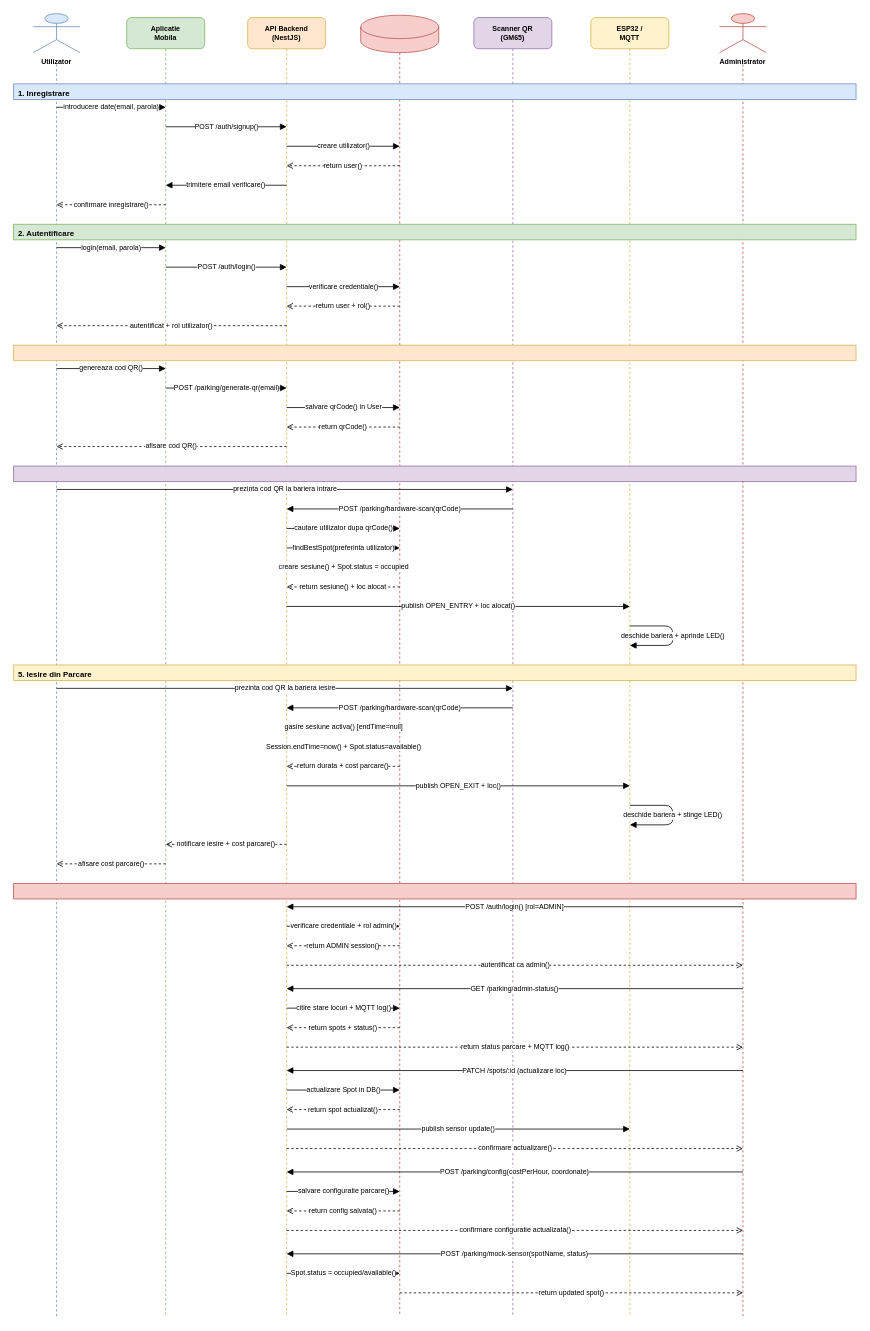
This 870x1331 diagram has some shape labels left out. Each missing label, with the centre of its shape:
"3. Generare Cod QR" belongs at (x=434, y=352).
"4. Intrare in Parcare (Scanare QR la Bariera)" belongs at (x=434, y=473).
"6. Administrare Parcare" belongs at (x=434, y=891).
"Baza de Date (PostgreSQL)" belongs at (x=399, y=33).
